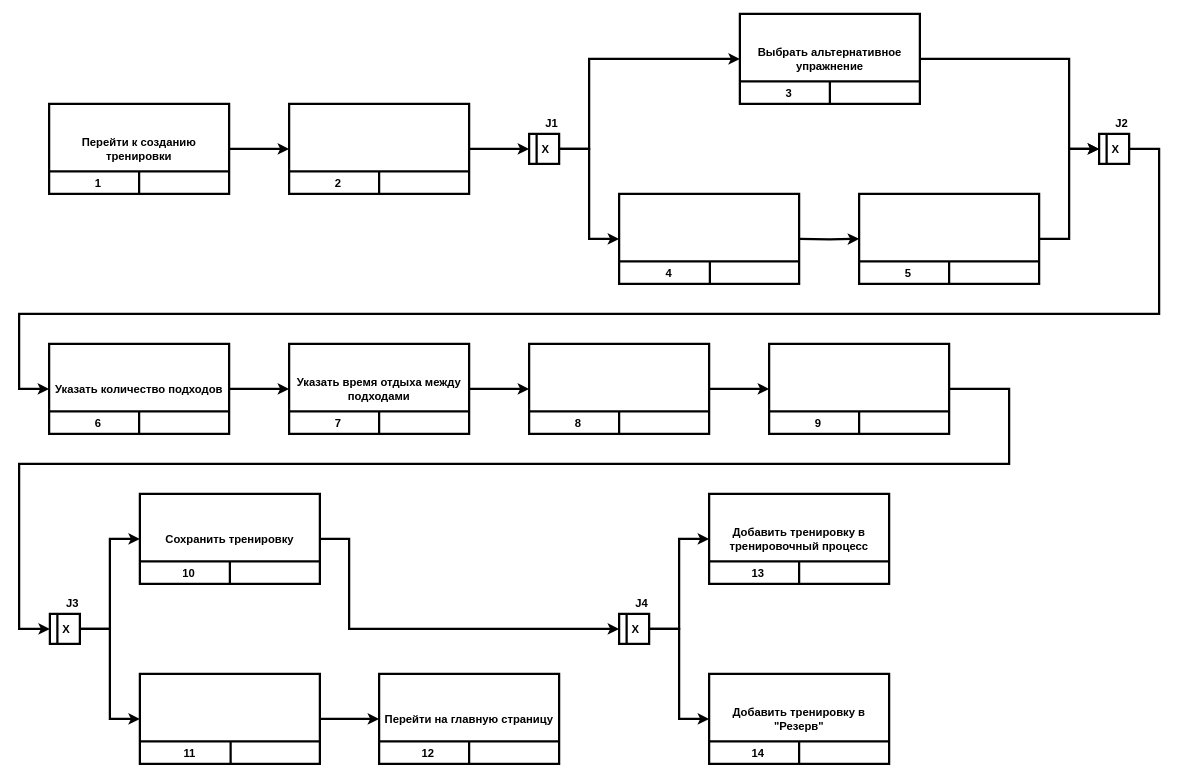
The diagram is 1179 pixels wide and 779 high, and some of its shapes have lost their labels. The box of each missing label's shape, as (x1, y1, x2, y2) in pixels:
Выбрать упражнение антагонист: (858, 192, 1040, 285)
Добавить упражнение: (288, 102, 470, 195)
Отменить создание тренировки: (138, 672, 321, 765)
Просмотреть информацию о задействованных мышцах: (768, 342, 950, 435)
Создать супер-сет: (618, 192, 800, 285)
Указать время отдыха между упражнениями: (528, 342, 710, 435)
